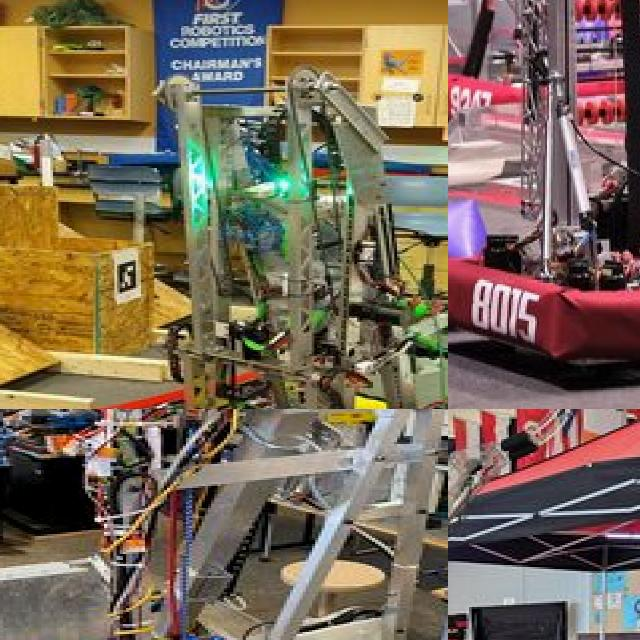FRC-Robots: (75, 56, 448, 409), (0, 409, 448, 640), (448, 0, 640, 392), (448, 416, 640, 640)
